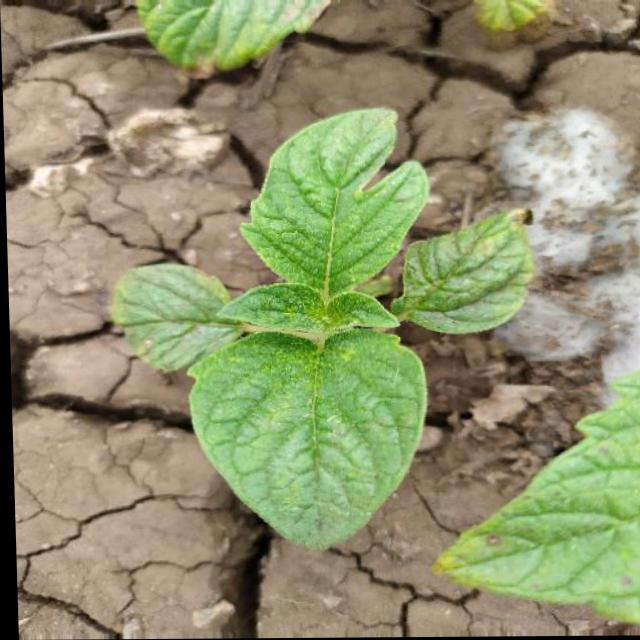crop: (97, 136, 555, 554)
